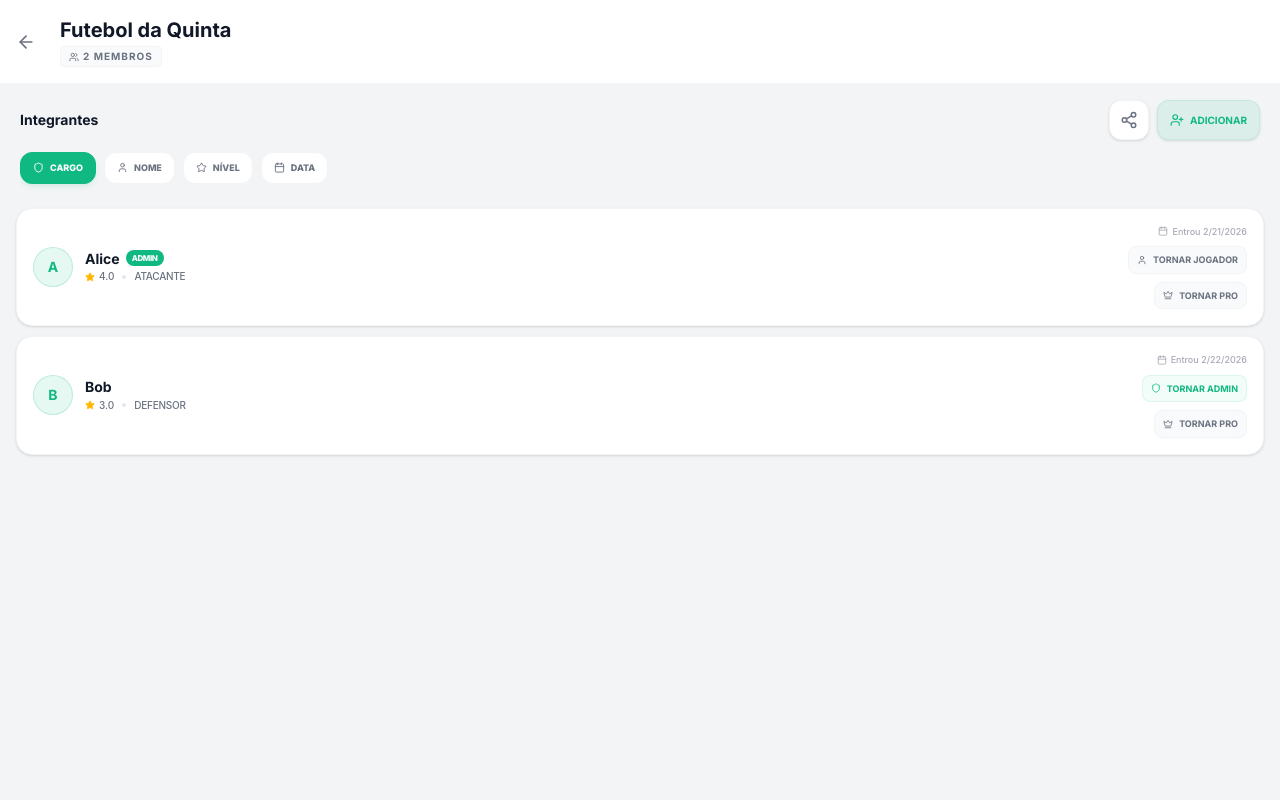
GroupDetailsView Component › opens Add Member modal when clicking ADICIONAR
Check: the heading "Futebol da Quinta" is shown, box [60, 16, 231, 44]
// Add member button contains text ADICIONAR
Click the button "ADICIONAR": (1208, 120) [1157, 100, 1260, 140]
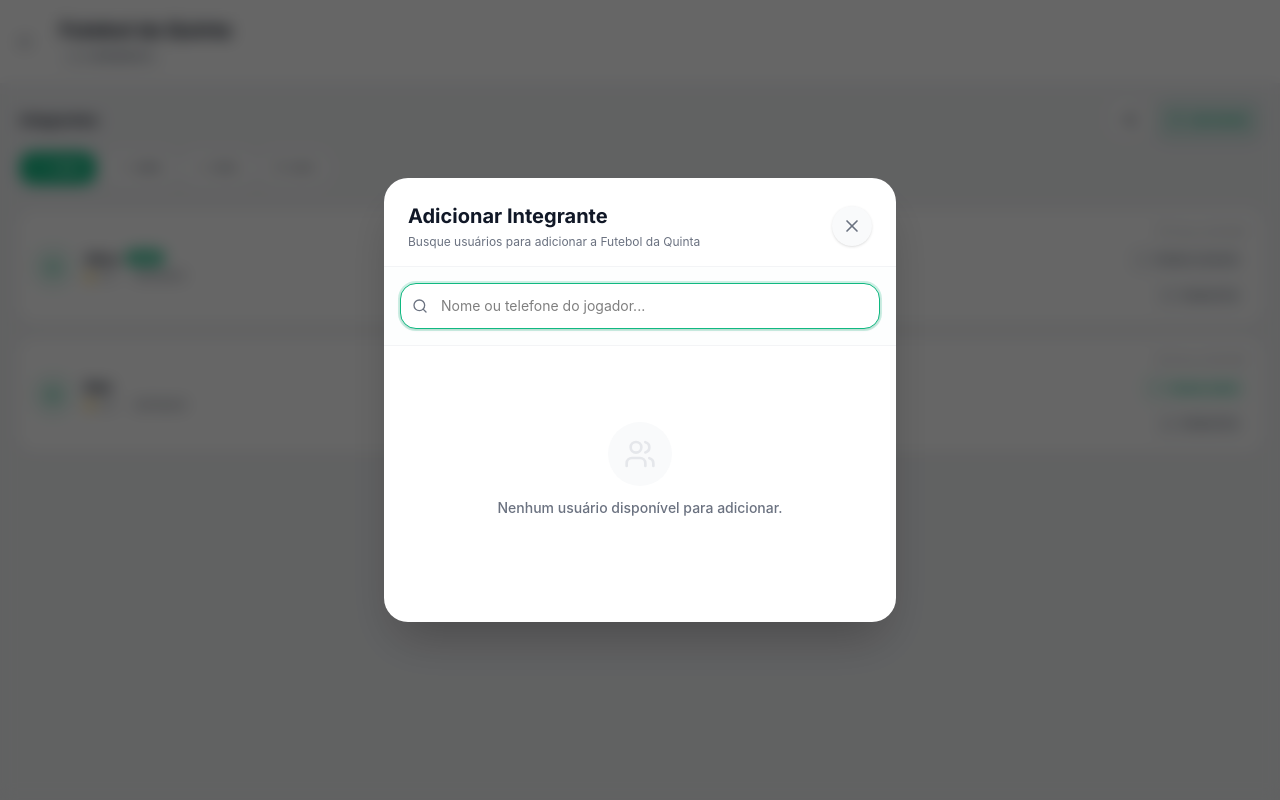
Check: the heading "Adicionar Integrante" is shown, box [408, 204, 608, 228]
Check: the field with placeholder "Nome ou telefone do jogador..." is shown, box [400, 283, 880, 329]
